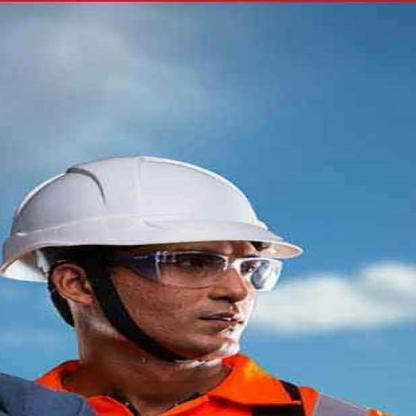capacete: (0, 158, 305, 253)
oculos: (83, 249, 289, 294)
